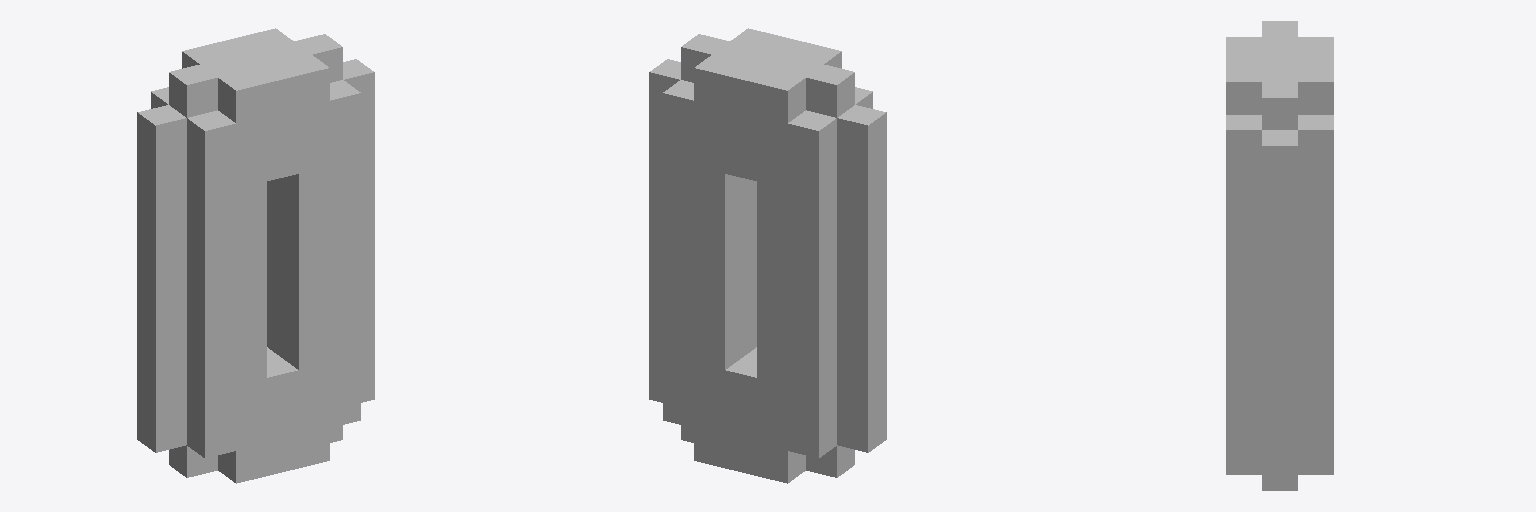
Rendered from Coin.obj.
3 renders of one model, left to right at view 1: azimuth 30°, elevation 25°; view 2: azimuth 150°, elevation 25°; view 3: azimuth 270°, elevation 25°, orthographic.
Visible parts, largest first — view 1: object 1; view 2: object 1; view 3: object 1.
Boxes of the visible parts, box(x1,y1,x2,y2) form: object 1: box(137, 28, 374, 483); object 1: box(649, 28, 886, 483); object 1: box(1226, 21, 1333, 490).
Bounding box in the file's own units: 0.7 × 1.2 × 0.3.